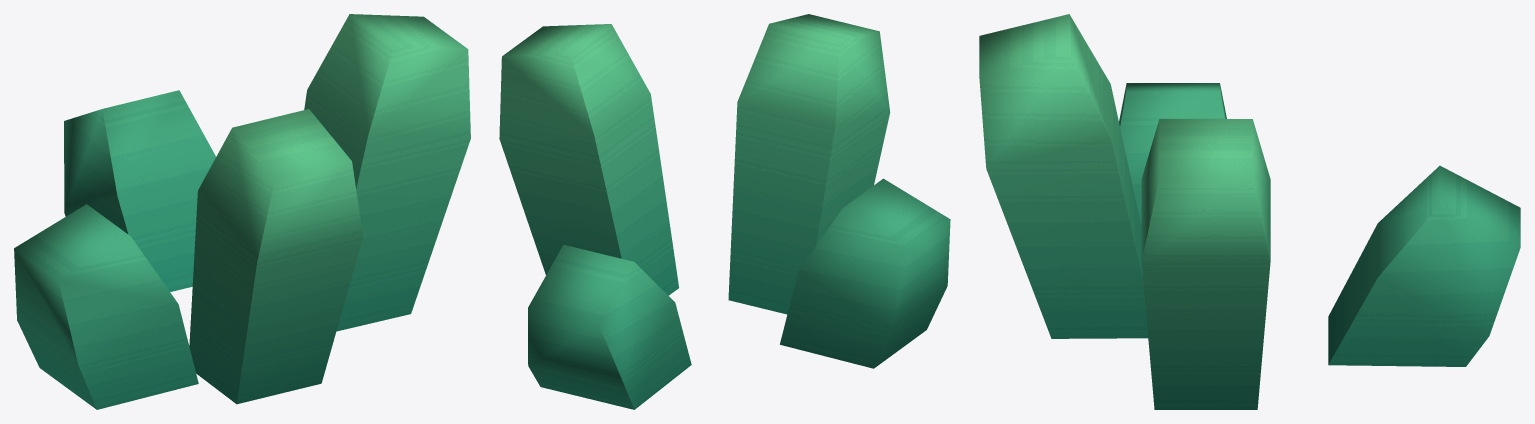
Rendered from grass.glb.
3 views of the same model, side by side, from view 1: azimuth 30°, elevation 25°; view 2: azimuth 150°, elevation 25°; view 3: azimuth 270°, elevation 25° (orthographic). The views are drawn at different scales.
Parts seen in each view (by area): view 1: grass; view 2: grass; view 3: grass.
Boxes of the visible parts, x1,y1,x2,y2 form: grass: (14, 14, 470, 409); grass: (499, 14, 950, 409); grass: (979, 14, 1520, 409).
Bounding box in the file's own units: 0.5187 × 0.3139 × 0.5437.
1 material, 1 textured.
